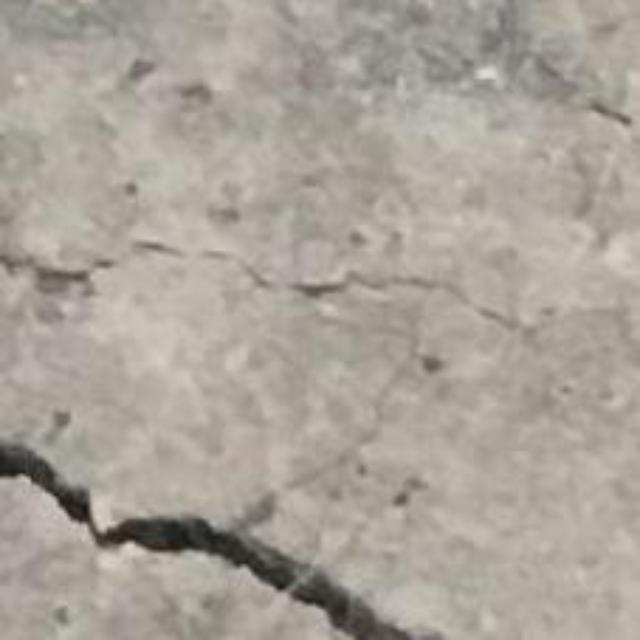crack: (0, 330, 442, 639)
